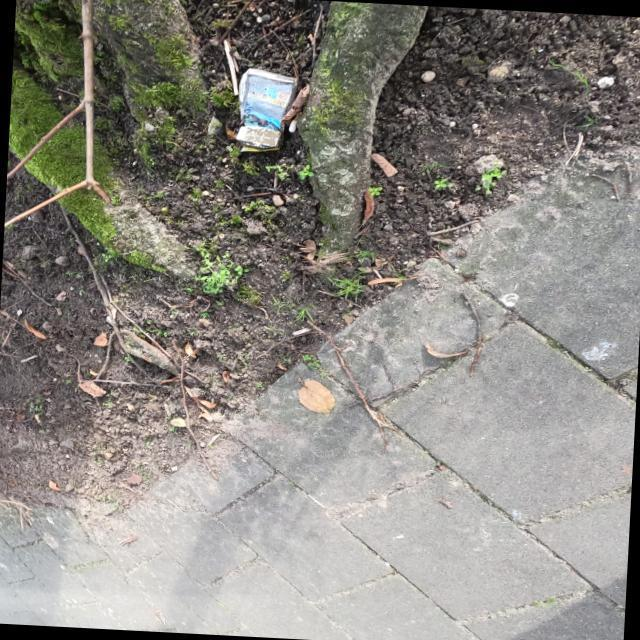Paper: (233, 66, 300, 155)
